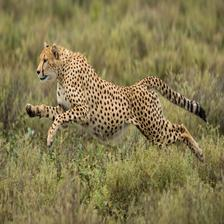Cheetah: (25, 40, 210, 166)
